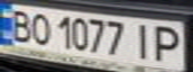0: (69, 15, 90, 52)
1: (51, 12, 72, 50)
7: (103, 18, 130, 56), (87, 16, 106, 54)
B: (3, 7, 36, 43)
I: (127, 20, 160, 61)
O: (27, 11, 54, 46)
P: (148, 22, 187, 64)
